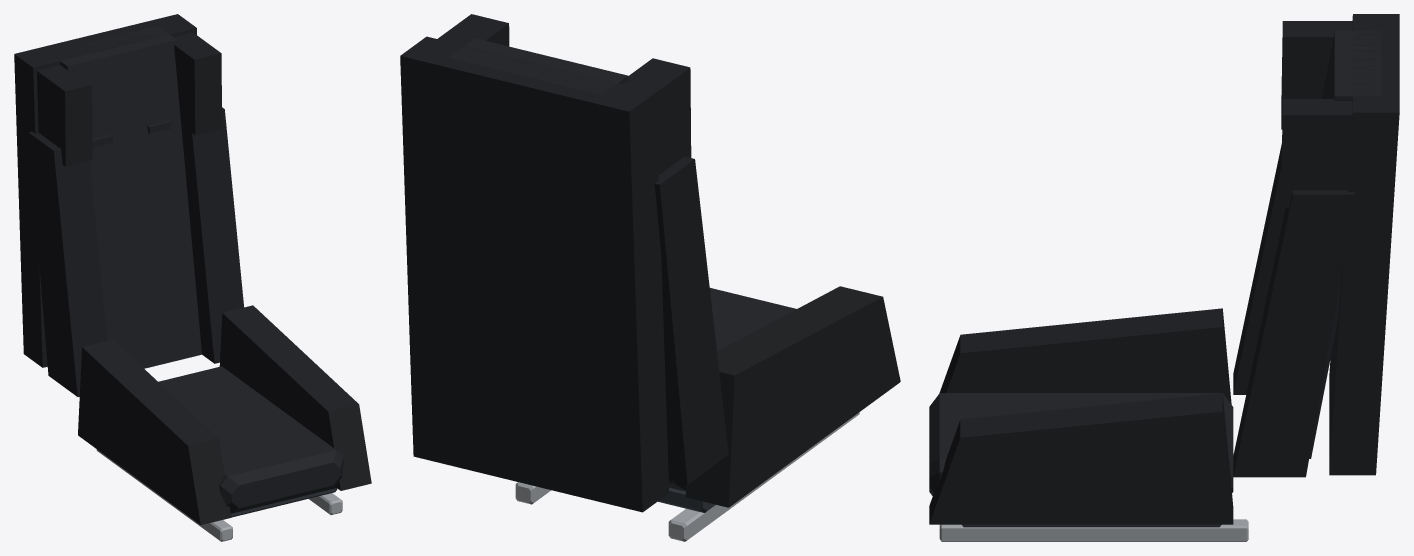
Rendered from strada_evo.glb.
3 renders of one model, left to right at view 1: azimuth 30°, elevation 25°; view 2: azimuth 150°, elevation 25°; view 3: azimuth 270°, elevation 25°, orthographic. The views are drawn at different scales.
Parts seen in each view (by area): view 1: model; view 2: model; view 3: model.
Boxes of the visible parts, <box> form: model: <box>14,14,371,541</box>; model: <box>400,14,900,541</box>; model: <box>929,14,1399,541</box>.
Bounding box in the file's own units: 0.4701 × 0.94 × 0.9055.
Materials: 4 (1 with a texture image).
